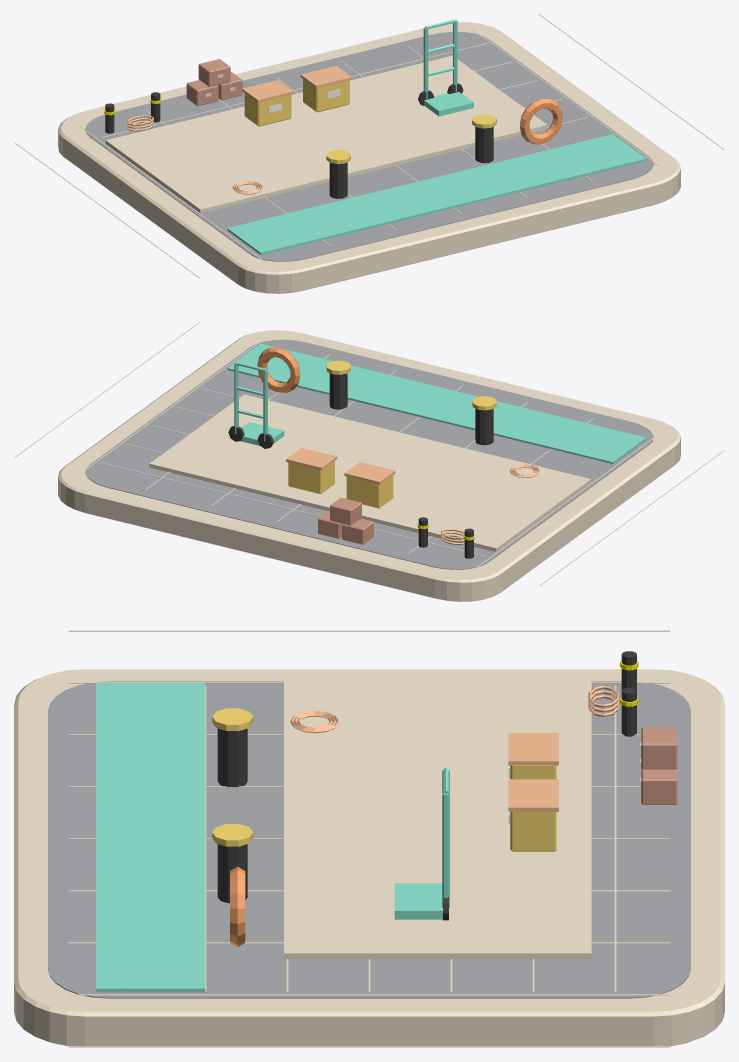
3 views of the same model, one above another, from view 1: azimuth 30°, elevation 25°; view 2: azimuth 150°, elevation 25°; view 3: azimuth 270°, elevation 25° (orthographic). The views are drawn at different scales.
Parts seen in each view (by area): view 1: Dock paving, COM-01 Rounded Base Direct, COM-02 Floor Surface, Water edge, Life ring, Box, Box.001, Loading plate, Stacked case.002, Lid, Lid.001, Mooring post (+3 smaller); view 2: COM-01 Rounded Base Direct, Dock paving, COM-02 Floor Surface, Water edge, Box.001, Box, Life ring, Stacked case.002, Lid, Lid.001, Mooring post.001, Mooring post (+3 smaller); view 3: Dock paving, COM-02 Floor Surface, COM-01 Rounded Base Direct, Water edge, Box.001, Loading plate, Mooring post, Lid, Lid.001, Stacked case.002, Stacked case.001, Mooring post.001 (+10 smaller).
Part boxes in pixels (bbox=[...]): Dock paving: bbox=[105, 55, 547, 213]; COM-01 Rounded Base Direct: bbox=[58, 22, 680, 293]; COM-02 Floor Surface: bbox=[85, 31, 653, 261]; Water edge: bbox=[227, 134, 646, 254]; Life ring: bbox=[520, 99, 562, 144]; Box: bbox=[244, 93, 291, 126]; Box.001: bbox=[303, 79, 349, 112]; Loading plate: bbox=[424, 92, 473, 116]; Stacked case.002: bbox=[198, 59, 230, 87]; Lid: bbox=[242, 80, 293, 102]; Lid.001: bbox=[300, 66, 351, 88]; Mooring post: bbox=[329, 162, 347, 198]; COM-01 Rounded Base Direct: bbox=[58, 330, 680, 601]; Dock paving: bbox=[149, 394, 591, 551]; COM-02 Floor Surface: bbox=[85, 339, 653, 569]; Water edge: bbox=[227, 343, 646, 463]; Box.001: bbox=[288, 461, 334, 494]; Box: bbox=[346, 475, 393, 508]; Life ring: bbox=[257, 347, 300, 392]; Stacked case.002: bbox=[330, 497, 361, 525]; Lid: bbox=[344, 462, 395, 484]; Lid.001: bbox=[286, 448, 337, 470]; Mooring post.001: bbox=[329, 373, 347, 409]; Mooring post: bbox=[475, 408, 493, 445]; Dock paving: bbox=[284, 678, 591, 959]; COM-02 Floor Surface: bbox=[48, 681, 690, 998]; COM-01 Rounded Base Direct: bbox=[14, 669, 724, 1046]; Water edge: bbox=[96, 683, 205, 992]; Box.001: bbox=[510, 812, 556, 851]; Loading plate: bbox=[394, 883, 442, 919]; Mooring post: bbox=[217, 728, 247, 786]; Lid: bbox=[508, 733, 558, 765]; Lid.001: bbox=[508, 779, 558, 811]; Stacked case.002: bbox=[641, 727, 677, 769]; Stacked case.001: bbox=[641, 768, 677, 804]; Mooring post.001: bbox=[217, 844, 247, 903].
Size of the model in its own units: 7.21 by 1.39 by 5.2.
1 material, 1 textured.
